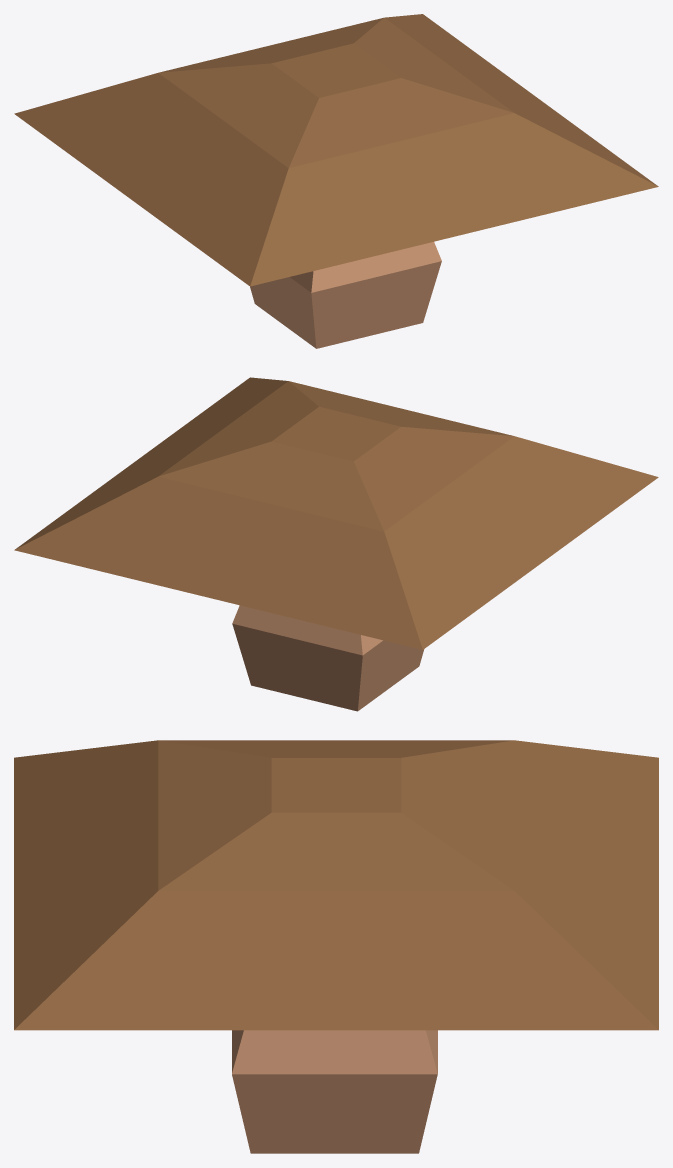
Rendered from grrzyb.fbx.
3 views of the same model, one above another, from view 1: azimuth 30°, elevation 25°; view 2: azimuth 150°, elevation 25°; view 3: azimuth 270°, elevation 25° (orthographic). The views are drawn at different scales.
Visible parts, largest first — view 1: Cube, Cube.001; view 2: Cube, Cube.001; view 3: Cube, Cube.001.
Part boxes in pixels (x1=…): Cube: x1=14, y1=14, x2=658, y2=286; Cube.001: x1=250, y1=242, x2=441, y2=348; Cube: x1=14, y1=377, x2=658, y2=649; Cube.001: x1=232, y1=605, x2=424, y2=711; Cube: x1=14, y1=740, x2=658, y2=1030; Cube.001: x1=232, y1=1030, x2=437, y2=1153.
Size of the model in its own units: 39.88 by 22.7 by 39.88.
